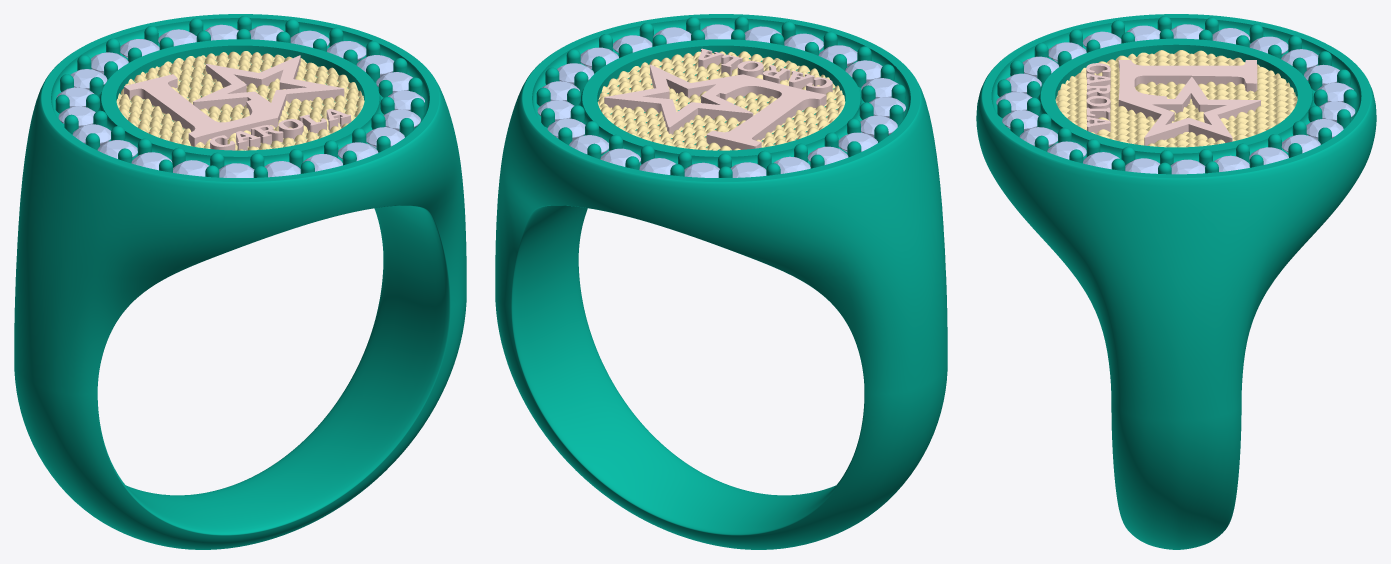
3 views of the same model, side by side, from view 1: azimuth 30°, elevation 25°; view 2: azimuth 150°, elevation 25°; view 3: azimuth 270°, elevation 25° (orthographic). The views are drawn at different scales.
Parts seen in each view (by area): view 1: Anel Chapinha La Carolla Aro 10.3dm; view 2: Anel Chapinha La Carolla Aro 10.3dm; view 3: Anel Chapinha La Carolla Aro 10.3dm.
Part boxes in pixels (box(x1,y1,x2,y2)): Anel Chapinha La Carolla Aro 10.3dm: box(14, 14, 466, 549); Anel Chapinha La Carolla Aro 10.3dm: box(495, 14, 947, 549); Anel Chapinha La Carolla Aro 10.3dm: box(976, 14, 1376, 549).
Size of the model in its own units: 2.45 by 2.43 by 2.02.
